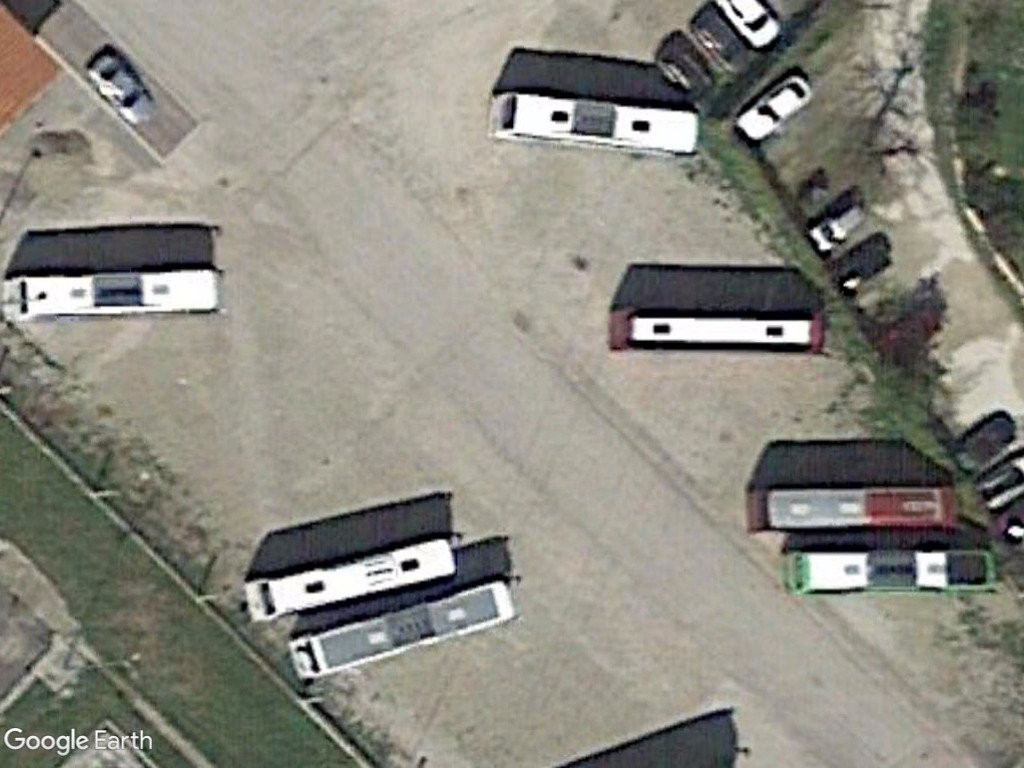bus: (283, 572, 518, 687), (236, 530, 461, 629), (484, 88, 704, 159), (777, 543, 1002, 604), (0, 267, 227, 326), (609, 300, 831, 358), (740, 479, 961, 536)
car: (733, 72, 818, 152), (83, 46, 159, 130), (716, 0, 786, 47)
